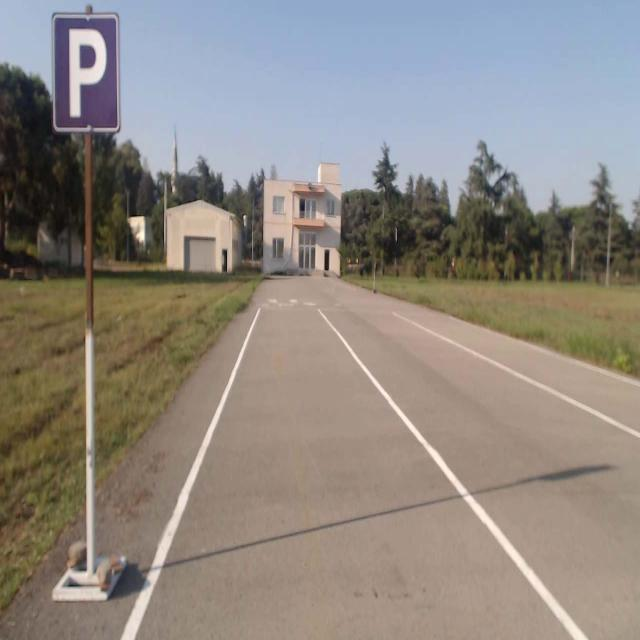park: (51, 12, 119, 132)
